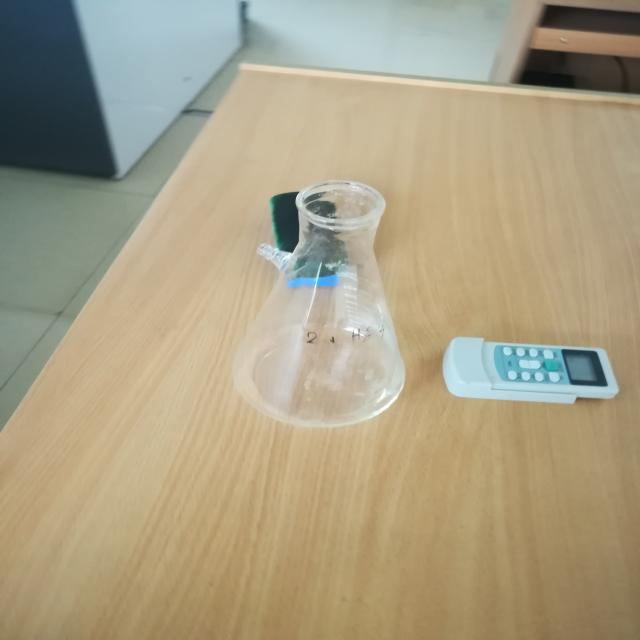Conical_Flask: (164, 142, 471, 468)
